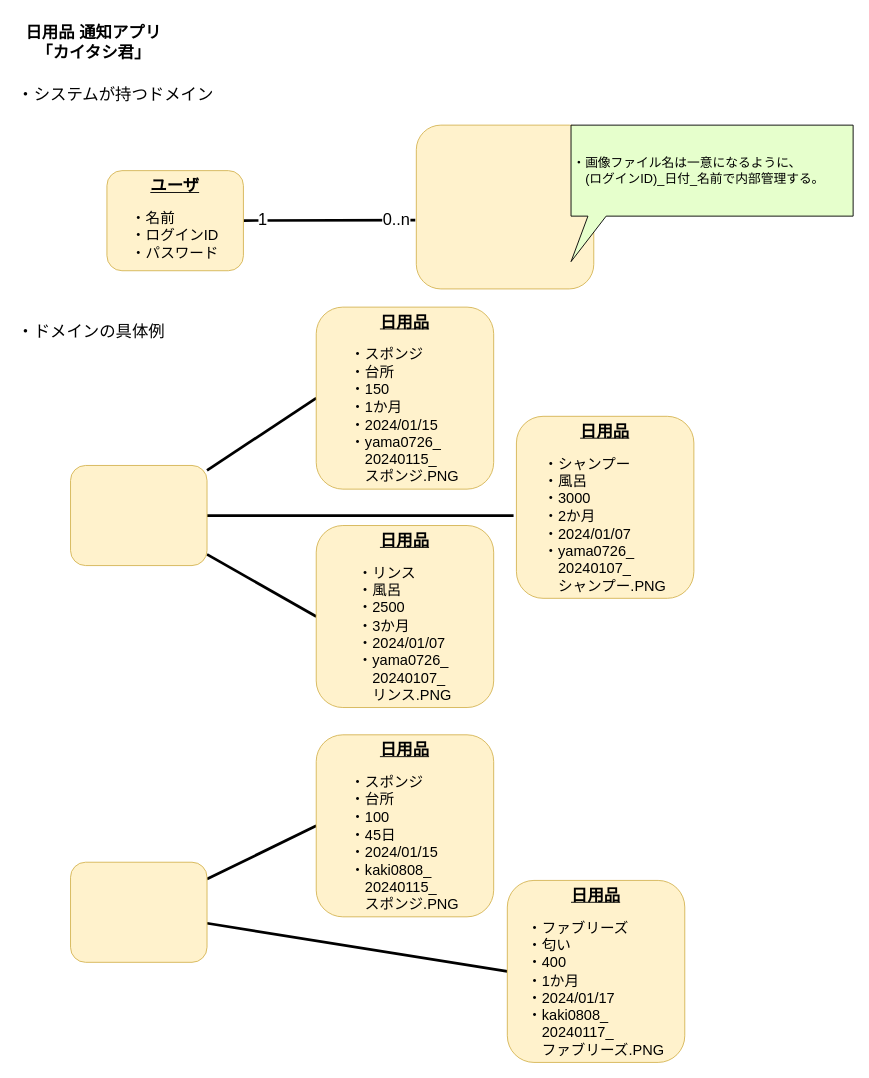
The diagram is 869 pixels wide and 1078 high, and some of its shapes have lost their labels. Here are the shapes that lost their labels. From the top down, the box of each, then its label:
(415, 124, 594, 289): 日用品 ・名前 ・タグ ・価格 ・買足間隔 ・登録日 ・画像ファイル名
(70, 465, 207, 566): ユーザ ・山下美月 ・yama0726 ・mizu_wasu
(70, 861, 207, 962): ユーザ ・嘉喜遥香 ・kaki0808 ・haru_mass
